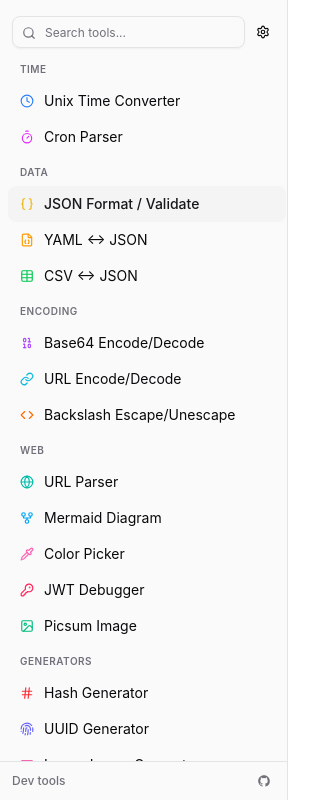
it: search filters the tool list
Type "cron" into the field with placeholder "Search tools..." at (128, 32), box [12,16,245,48]
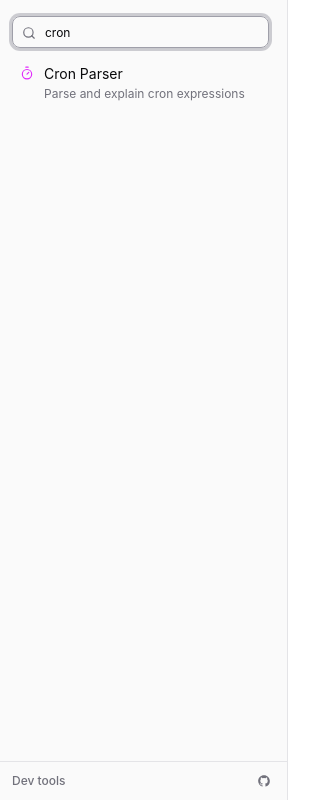
expect the text "Cron Parser" is shown: met, box [44,65,123,82]
expect the text "Parse and explain cron expressions" is shown: met, box [44,86,267,102]
